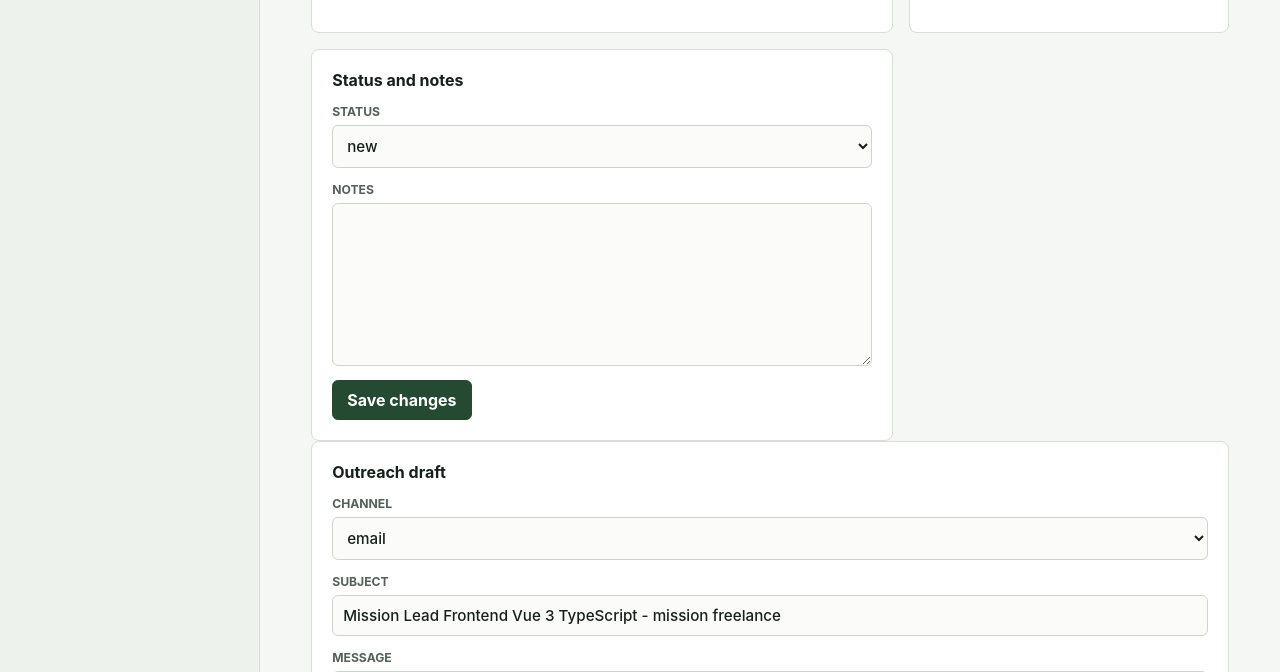
Test: Root › shows an error when update persistence fails
The width and height of the screenshot is (1280, 672).
(page scrolled)
Click the button "Save changes" at (402, 400), box 332,380 -> 472,420
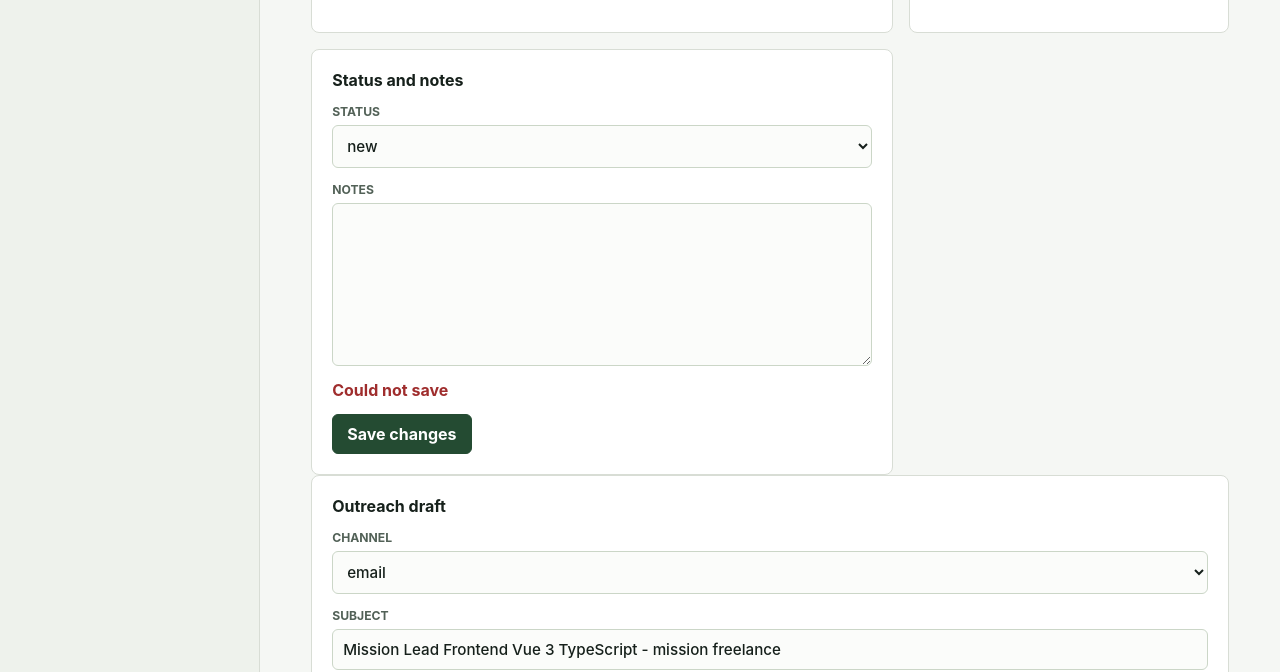
Check: the text "Could not save" is shown, box 332,380 -> 448,400
